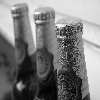beer: (52, 17, 98, 100)
